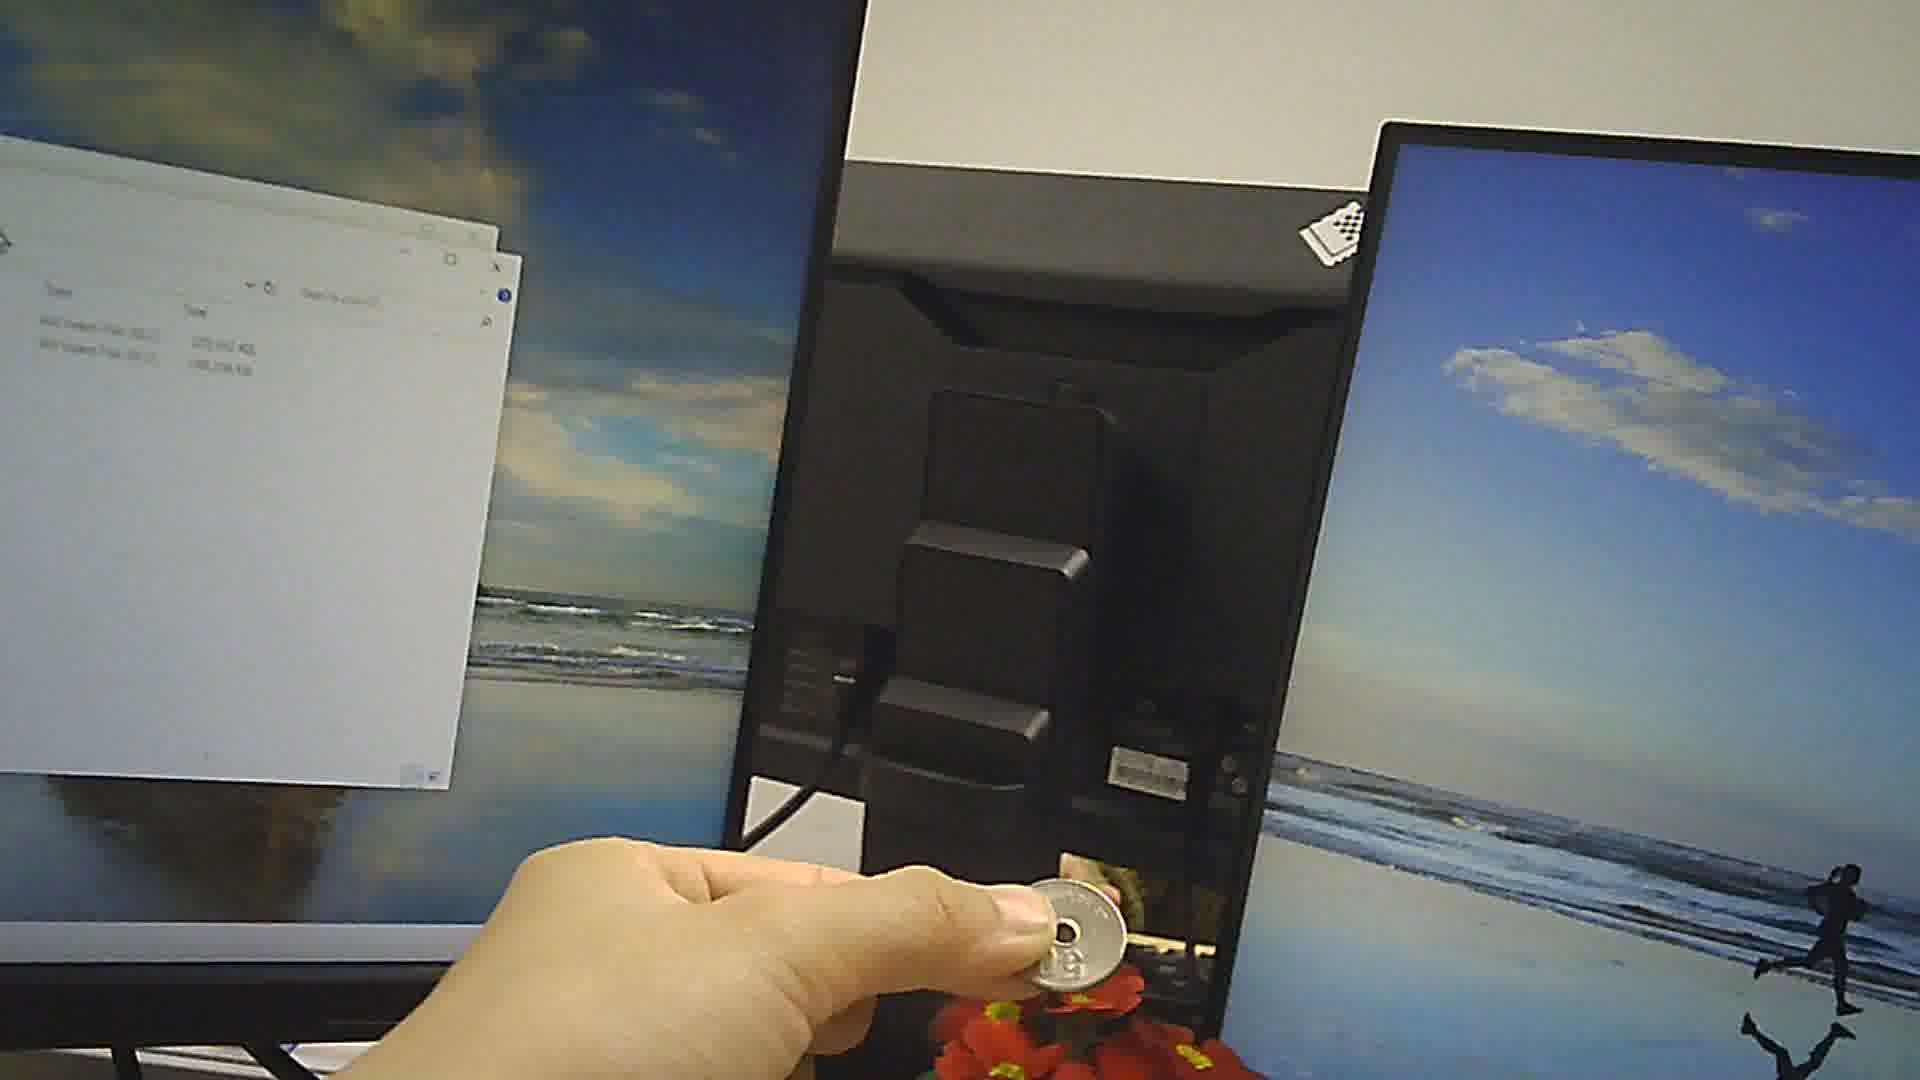50 Yen: (1011, 877, 1126, 1000)
